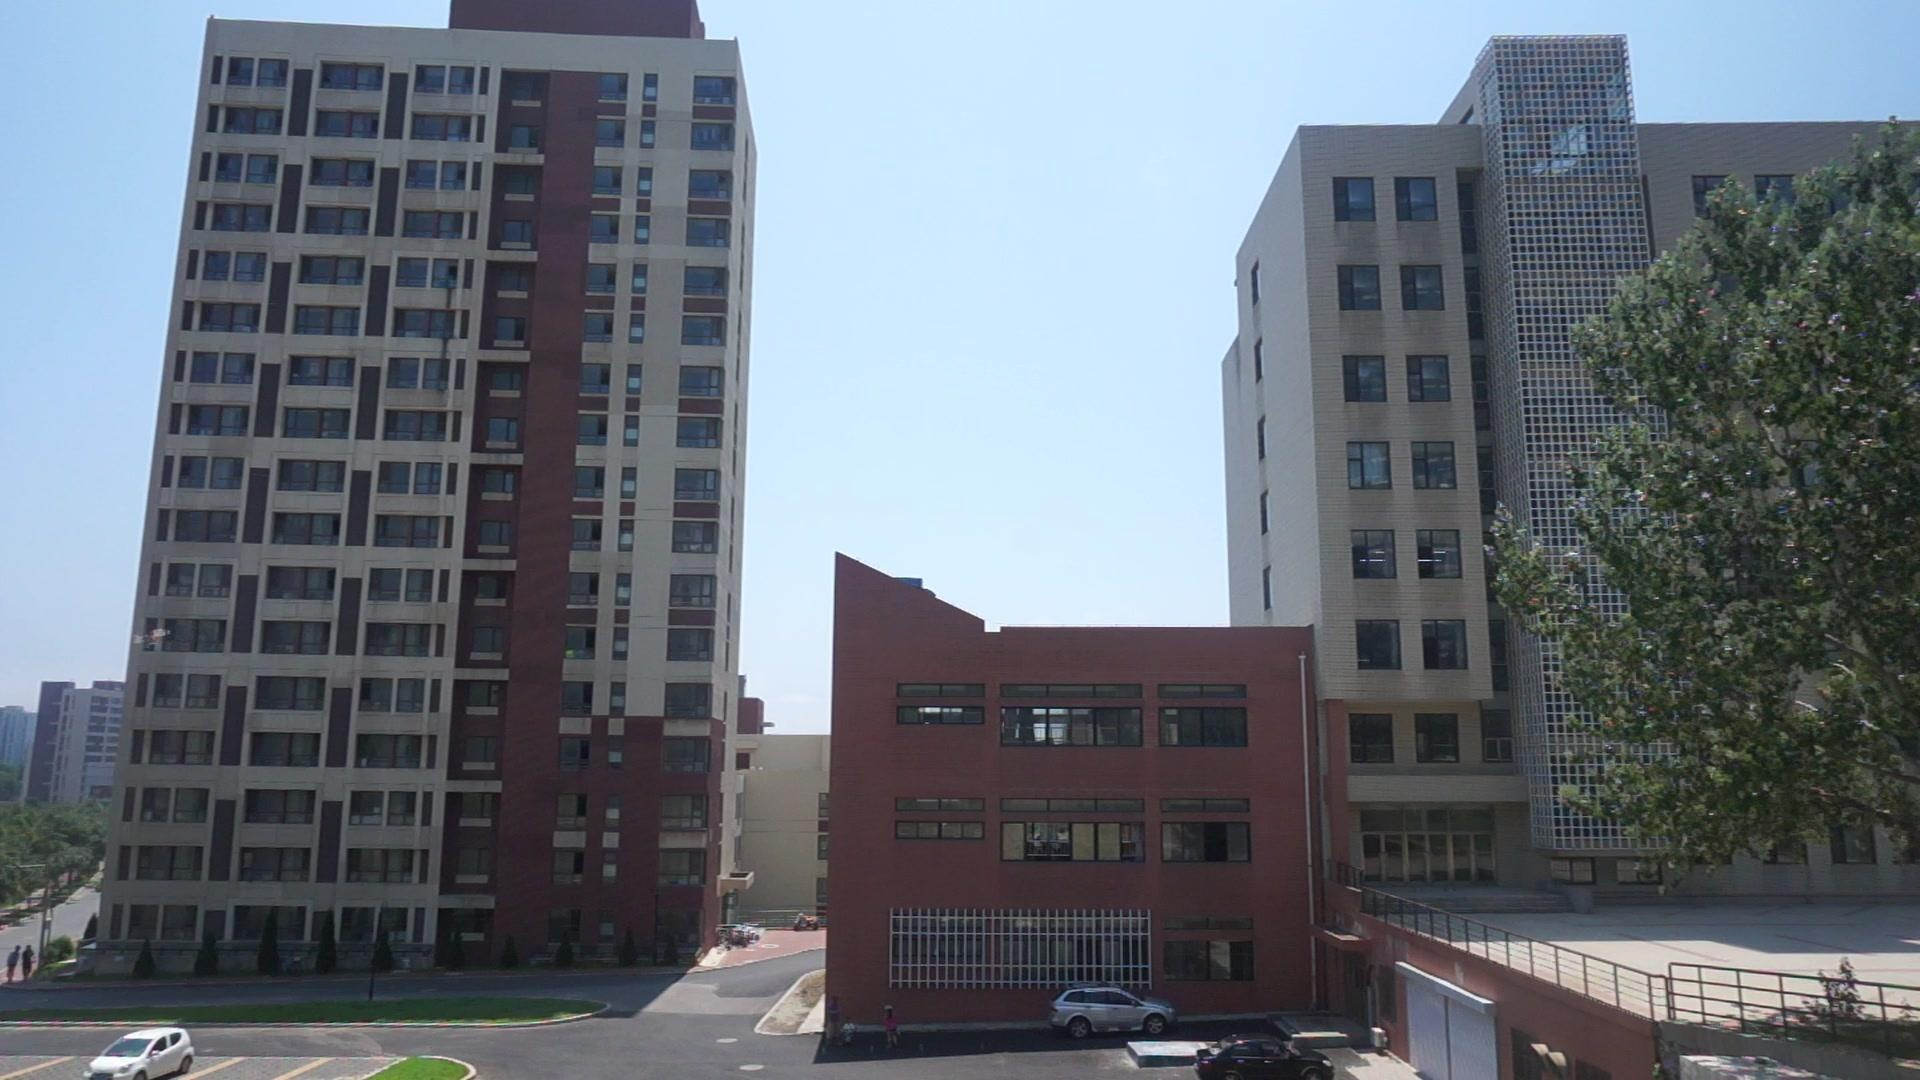UAV: (133, 629, 171, 650)
